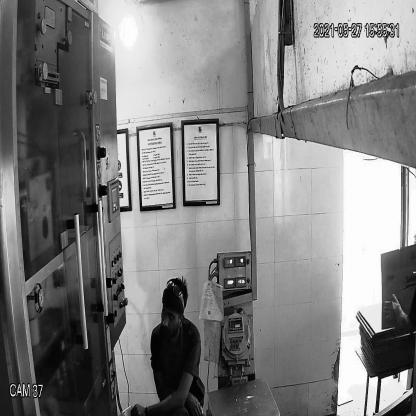no_goggles: (160, 306, 184, 324)
